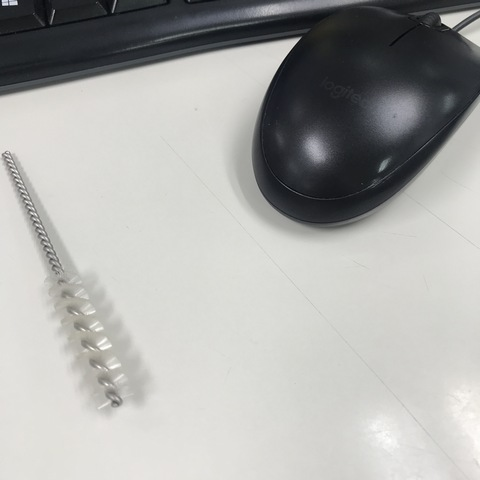Twist Brush-B: (3, 147, 137, 414)
